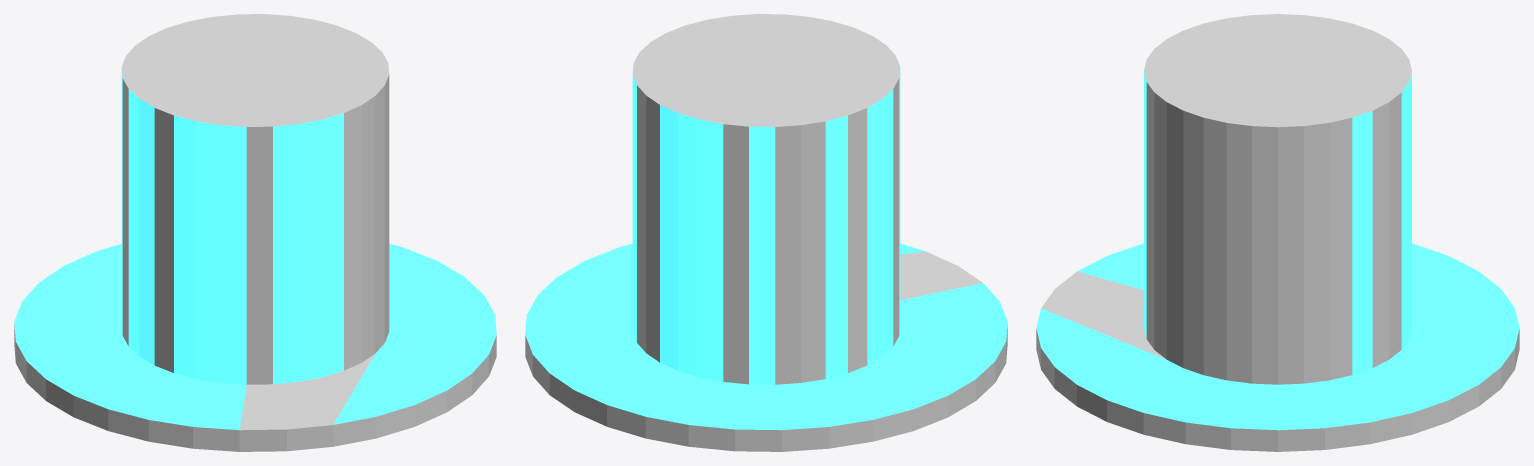
File: somehatcollision.glb
The picture shows the model from 3 angles, left to right: view 1: azimuth 30°, elevation 25°; view 2: azimuth 150°, elevation 25°; view 3: azimuth 270°, elevation 25°; orthographic projection.
Visible parts, largest first — view 1: hatcollision; view 2: hatcollision; view 3: hatcollision.
Part boxes in pixels (x1,y1,x2,y2): hatcollision: [14, 14, 496, 451]; hatcollision: [525, 14, 1007, 451]; hatcollision: [1036, 14, 1519, 451].
Size of the model in its own units: 371 by 237 by 371.
